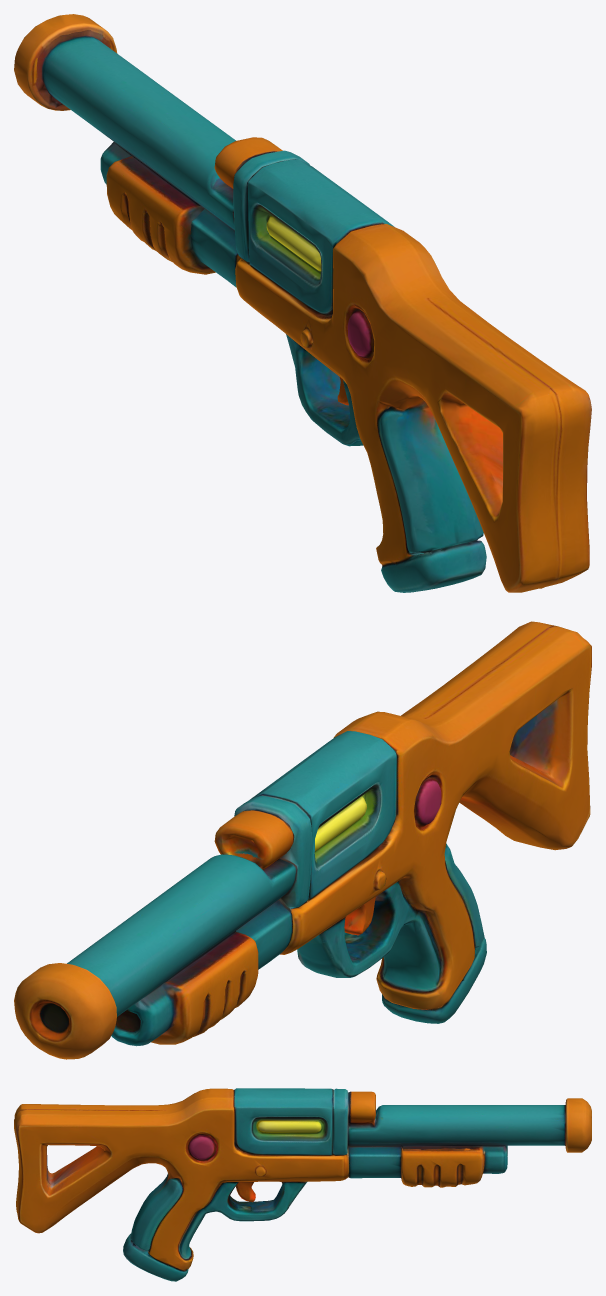
File: ClassicShotgun.fbx
3 renders of one model, top to bottom at view 1: azimuth 30°, elevation 25°; view 2: azimuth 150°, elevation 25°; view 3: azimuth 270°, elevation 25°, orthographic. The views are drawn at different scales.
Parts seen in each view (by area): view 1: tripo_node_46d0d917; view 2: tripo_node_46d0d917; view 3: tripo_node_46d0d917.
Boxes of the visible parts, x1,y1,x2,y2 form: tripo_node_46d0d917: (14,14,591,592); tripo_node_46d0d917: (14,621,591,1059); tripo_node_46d0d917: (14,1088,591,1281).
Size of the model in its own units: 10.21 by 35.1 by 99.98.
Materials: 1 (1 with a texture image).
